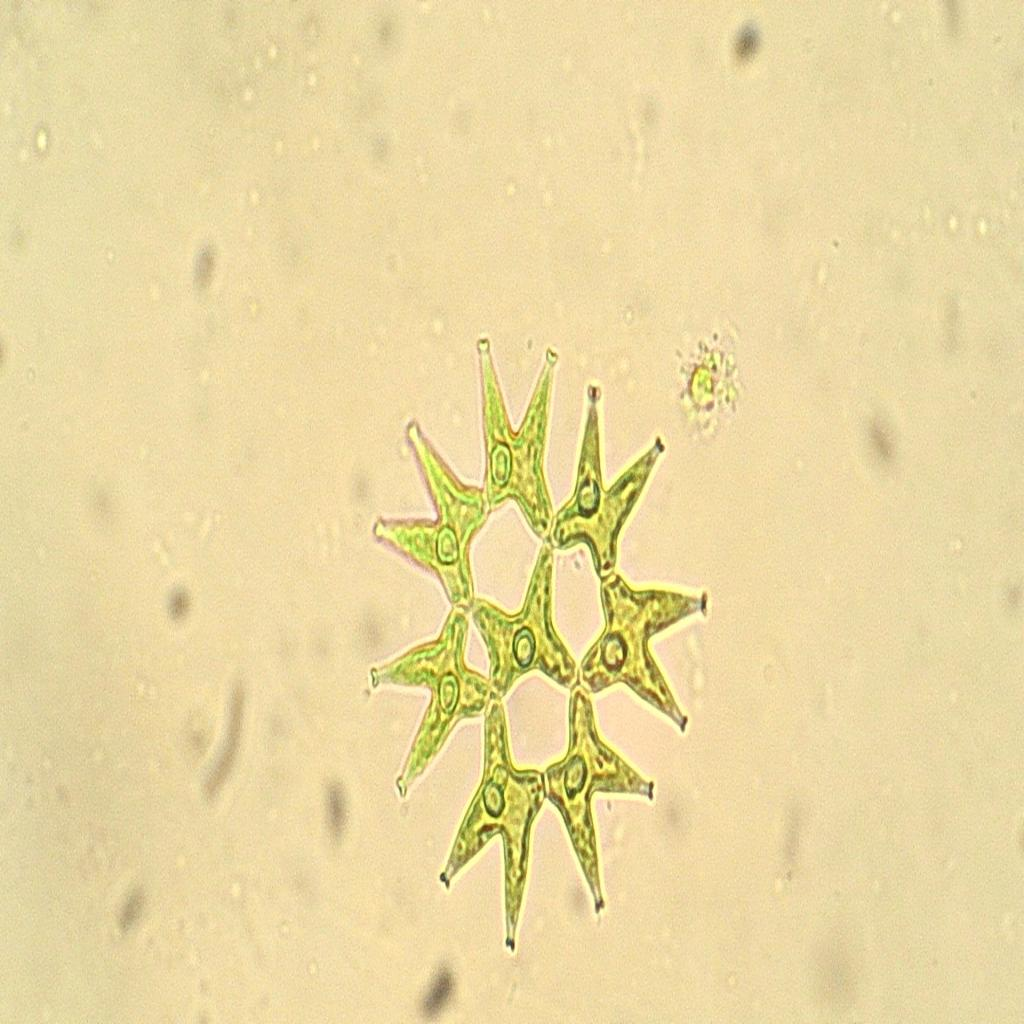Pediastrum_CTH: (353, 308, 728, 964)
